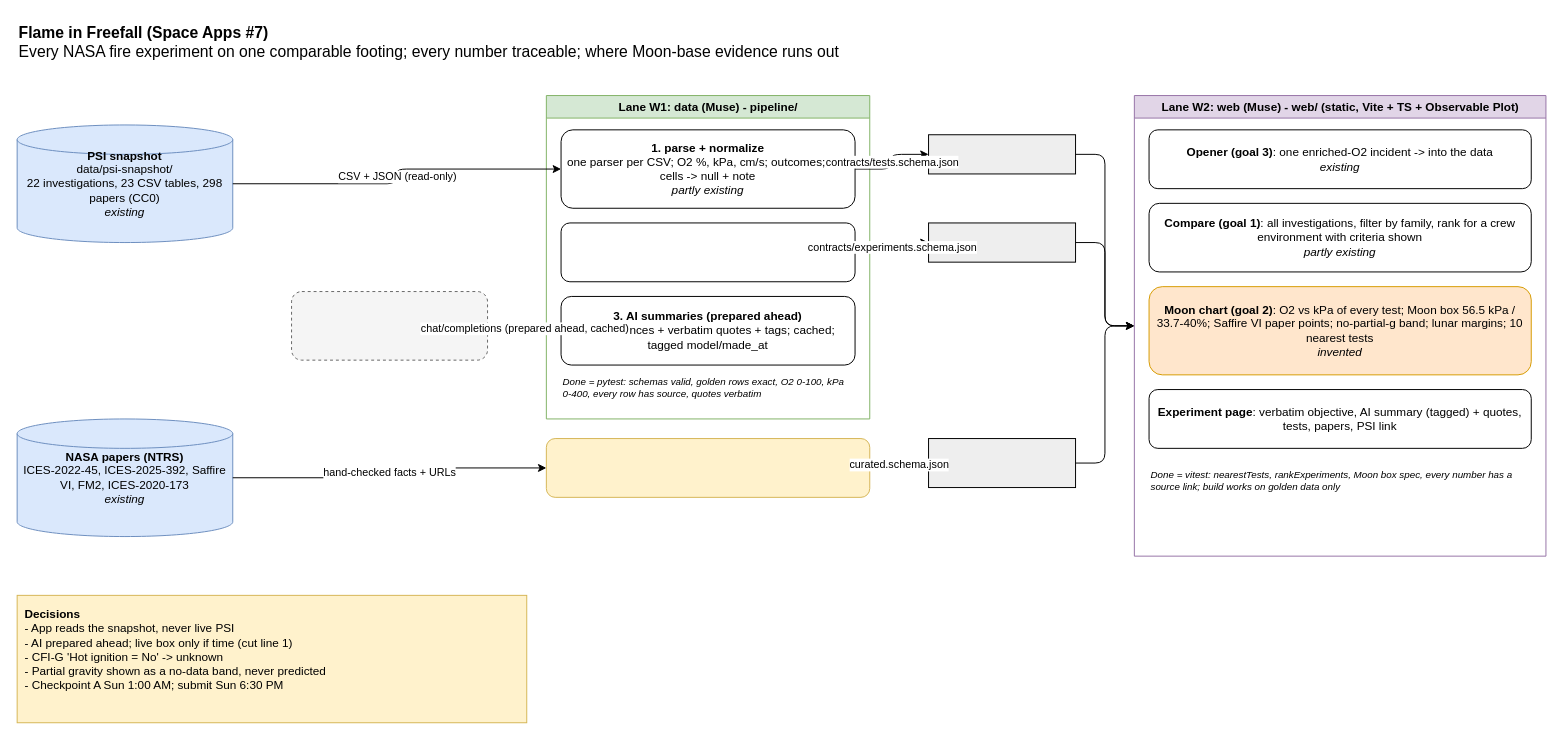
Image size: 1563x740. Some labels were removed from this diagram. Each missing label, with the box of its shape:
2. experiments PSI text + papers + ranges + family: (560, 222, 855, 282)
experiments.json: (928, 222, 1076, 262)
Meta Model API muse-spark-1.3 api.meta.ai/v1 (META_API_KEY): (291, 291, 488, 360)
moon.json incidents.json: (928, 438, 1076, 488)
Orchestrator (Claude) contracts/, data/curated/, reviews every PR: (545, 438, 870, 497)
tests.json: (928, 134, 1076, 174)
